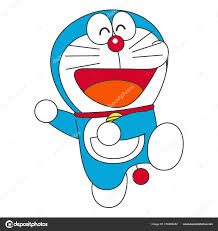doraemon: (34, 9, 186, 208)
